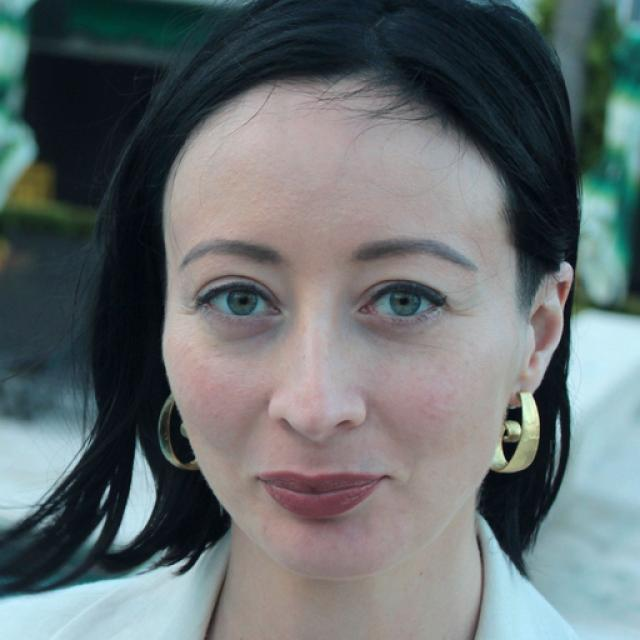content: (161, 75, 519, 585)
